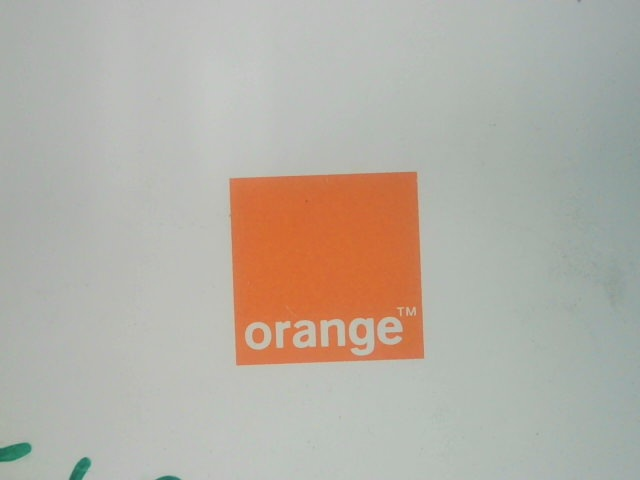AR_Orange: (220, 167, 441, 374)
